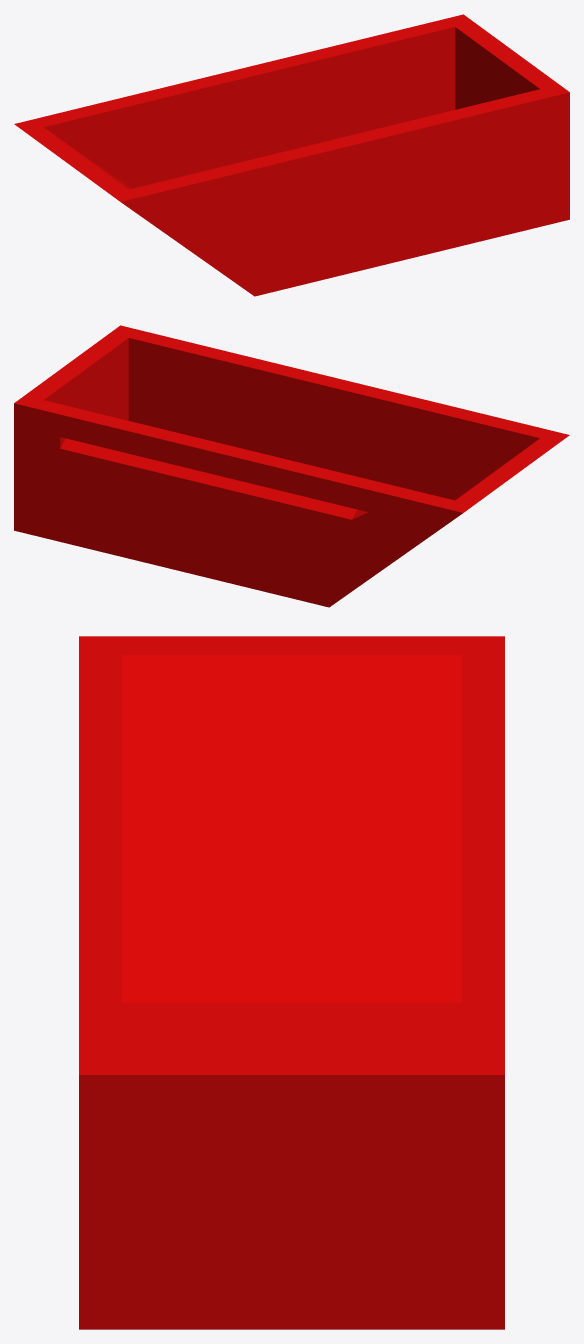
The model's file is AntagPCDesk_DrawerC.fbx.
The picture shows the model from 3 angles, top to bottom: view 1: azimuth 30°, elevation 25°; view 2: azimuth 150°, elevation 25°; view 3: azimuth 270°, elevation 25°; orthographic projection. The views are drawn at different scales.
Visible parts, largest first — view 1: AntagPCDesk_DrawerC; view 2: AntagPCDesk_DrawerC; view 3: AntagPCDesk_DrawerC.
Part boxes in pixels (x1=…): AntagPCDesk_DrawerC: x1=14, y1=14, x2=569, y2=296; AntagPCDesk_DrawerC: x1=14, y1=325, x2=569, y2=607; AntagPCDesk_DrawerC: x1=79, y1=636, x2=504, y2=1329.
Size of the model in its own units: 153 by 41.54 by 62.93.
